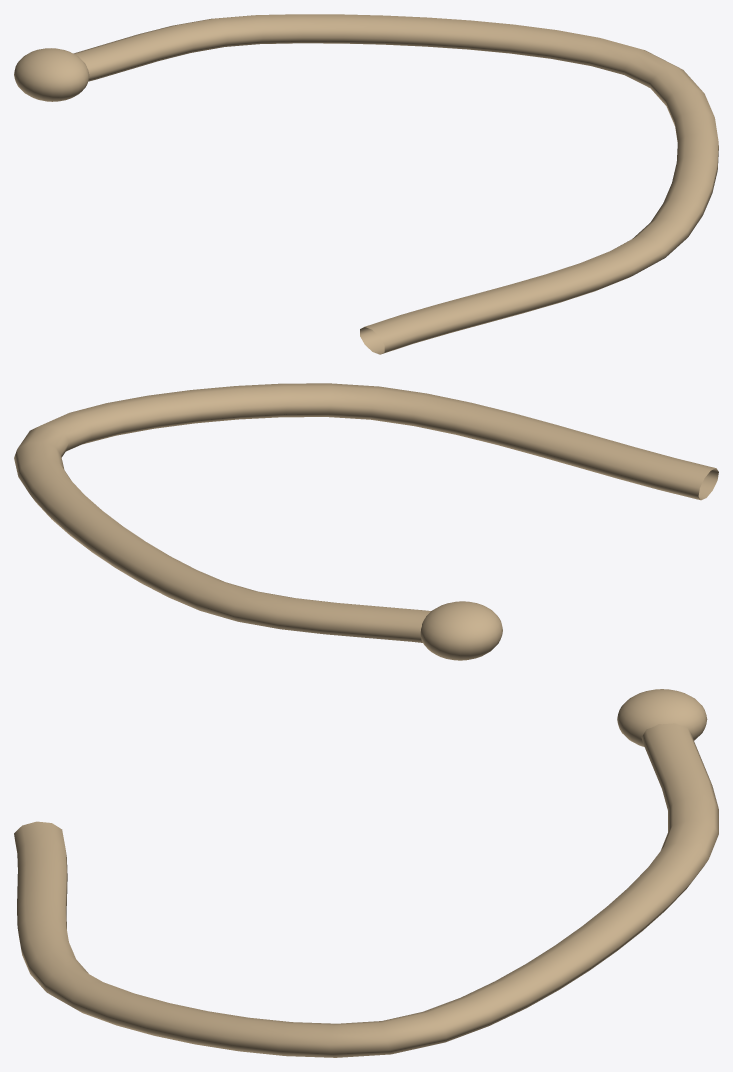
File: left_rib_10.glb
3 views of the same model, one above another, from view 1: azimuth 30°, elevation 25°; view 2: azimuth 150°, elevation 25°; view 3: azimuth 270°, elevation 25° (orthographic). The views are drawn at different scales.
Visible parts, largest first — view 1: left_rib_10:costal-body, left_rib_10:head; view 2: left_rib_10:costal-body, left_rib_10:head; view 3: left_rib_10:costal-body, left_rib_10:head.
Boxes of the visible parts, left/top/right/bottom form: left_rib_10:costal-body: left=73, top=14, right=718, bottom=354; left_rib_10:head: left=14, top=48, right=89, bottom=101; left_rib_10:costal-body: left=14, top=383, right=718, bottom=642; left_rib_10:head: left=420, top=601, right=502, bottom=660; left_rib_10:costal-body: left=14, top=723, right=718, bottom=1057; left_rib_10:head: left=617, top=689, right=707, bottom=746.
Bounding box in the file's own units: 0.4137 × 0.081 × 0.405.
